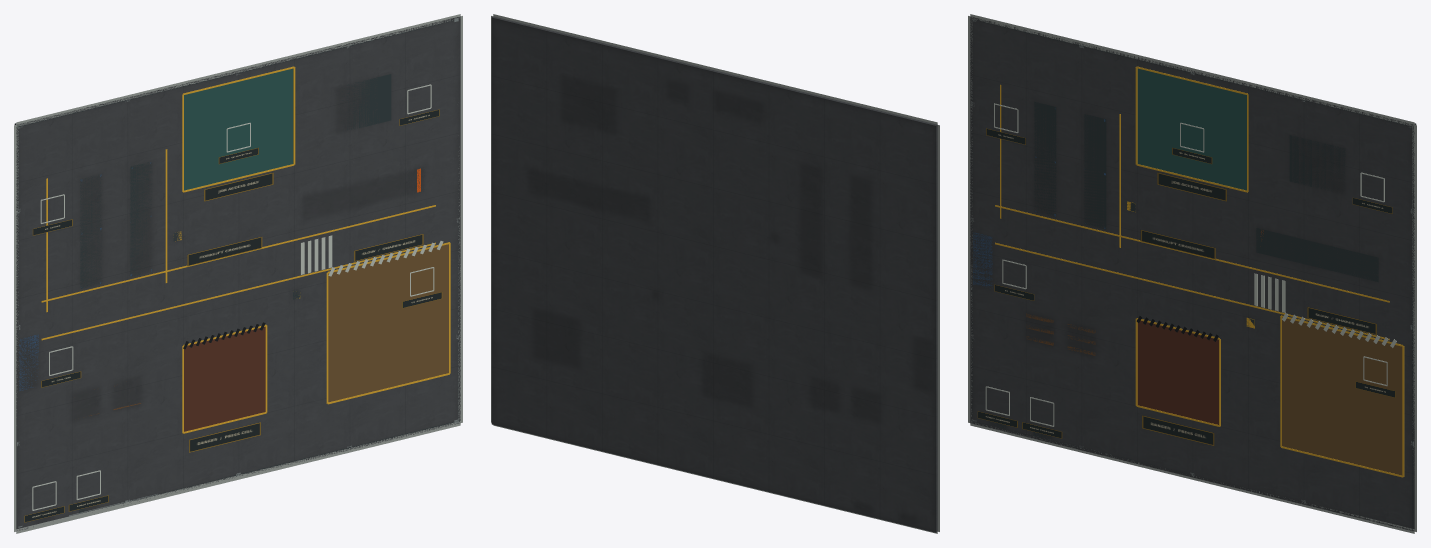
Rendered from static_ground.obj.
The picture shows the model from 3 angles, left to right: view 1: azimuth 30°, elevation 25°; view 2: azimuth 150°, elevation 25°; view 3: azimuth 330°, elevation 25°; orthographic projection.
Visible parts, largest first — view 1: static_ground; view 2: static_ground; view 3: static_ground.
Boxes of the visible parts, bbox=[...] form: static_ground: bbox=[14, 14, 462, 533]; static_ground: bbox=[491, 14, 939, 533]; static_ground: bbox=[968, 14, 1416, 533].
Size of the model in its own units: 16.16 by 14.16 by 0.125.
14 materials, 2 textured.
